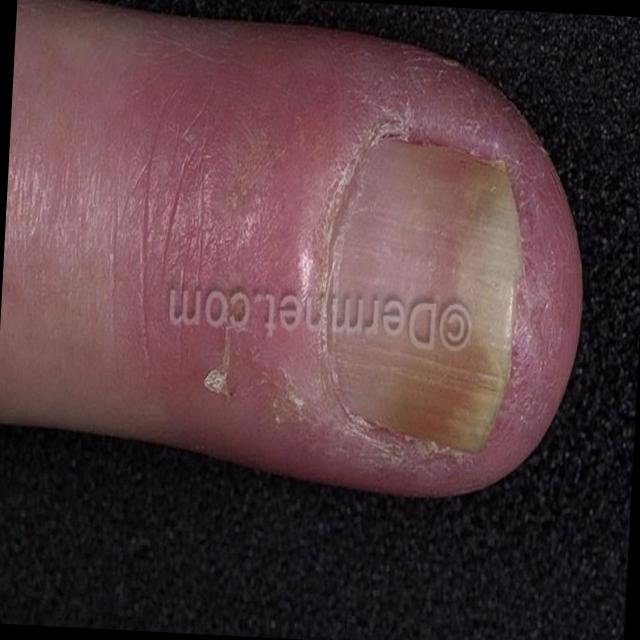Nail: (317, 123, 521, 456)
